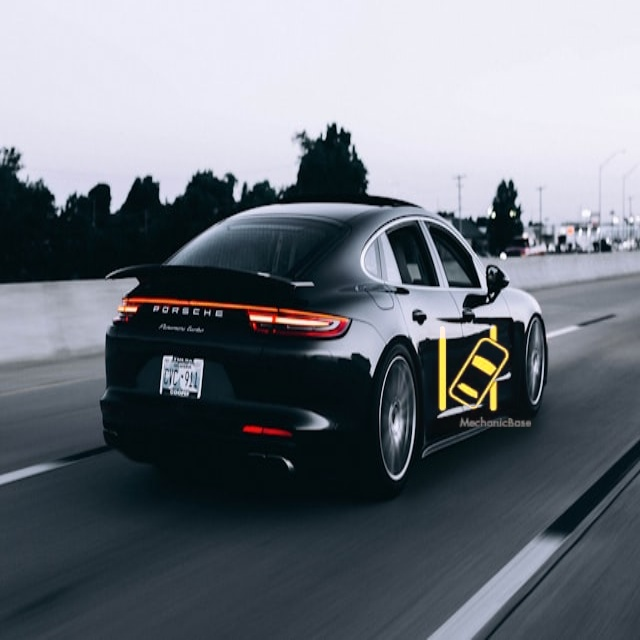symbol: (411, 308, 536, 433)
